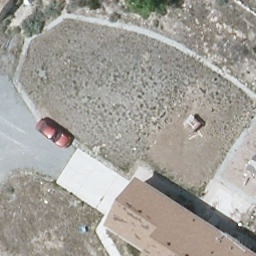car: (36, 118, 77, 148)
